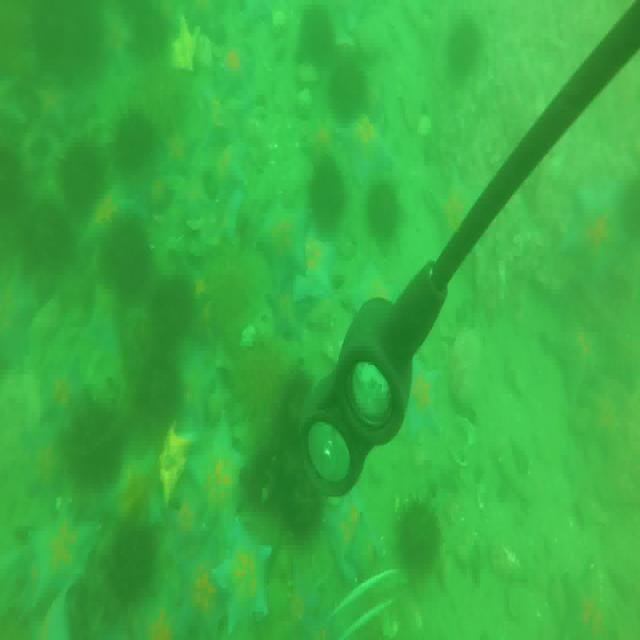echinus: (66, 398, 123, 491), (40, 3, 100, 70), (100, 222, 151, 293), (396, 503, 442, 580), (242, 442, 288, 514), (113, 521, 155, 598), (60, 140, 102, 213), (28, 202, 68, 274), (151, 275, 192, 338), (281, 370, 315, 444), (284, 474, 318, 546), (114, 109, 153, 170), (142, 360, 179, 424), (328, 61, 368, 119), (316, 162, 344, 232), (130, 10, 169, 58), (367, 182, 396, 240), (299, 8, 331, 58), (448, 19, 476, 72)
starfish: (210, 520, 278, 632), (25, 507, 98, 597), (567, 178, 620, 291), (190, 412, 244, 520), (324, 494, 384, 589), (551, 310, 612, 392), (171, 549, 225, 640), (337, 114, 395, 183), (407, 356, 450, 440), (348, 268, 397, 341), (260, 205, 306, 282), (0, 263, 33, 370), (202, 72, 247, 142), (44, 365, 92, 430), (88, 277, 128, 353), (139, 578, 187, 640), (294, 230, 338, 294), (272, 277, 312, 344), (24, 436, 64, 500), (177, 354, 214, 421), (196, 188, 244, 239), (288, 575, 316, 640), (212, 139, 246, 181)
